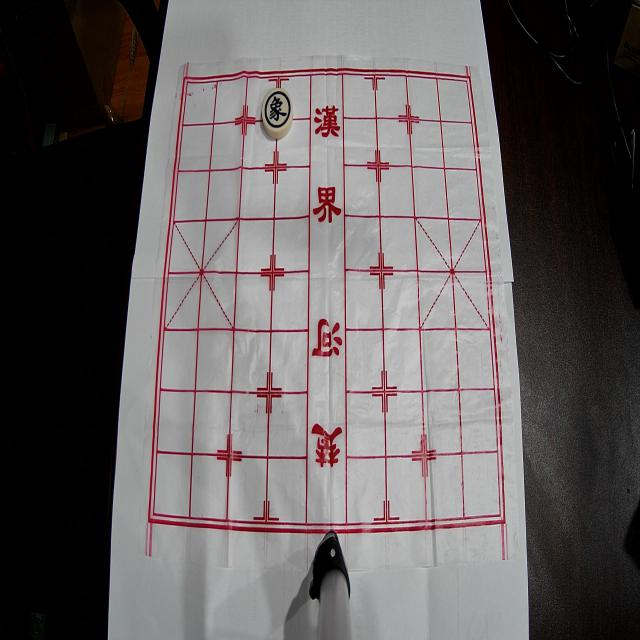black-elephant: (262, 89, 293, 139)
